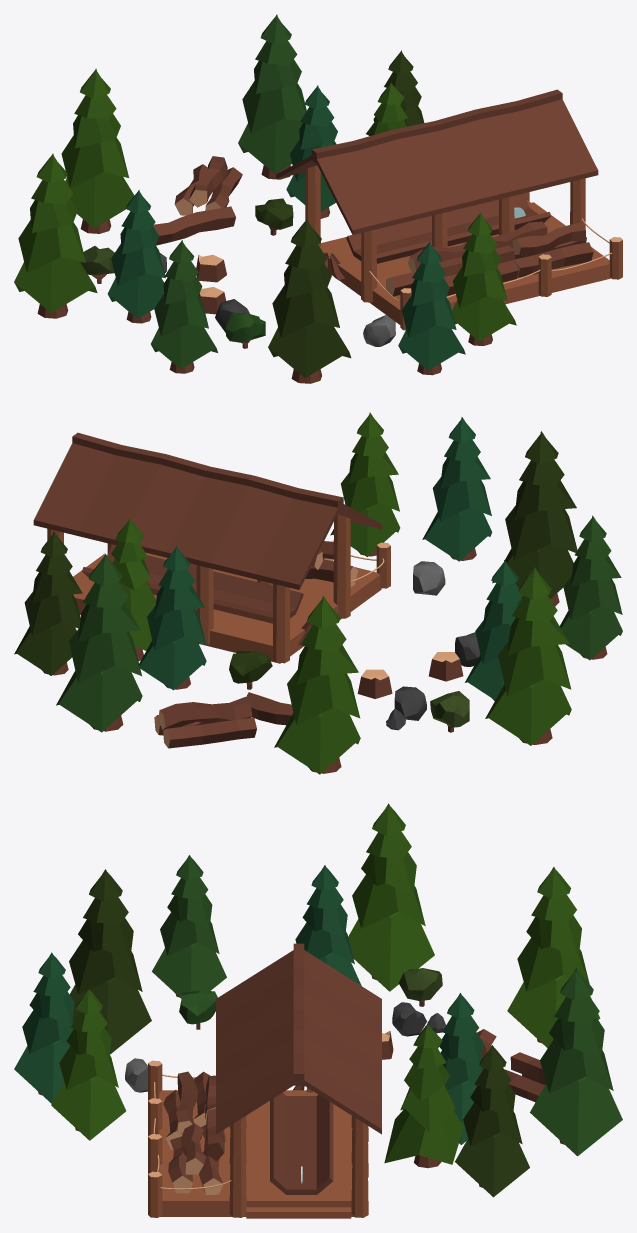
The model's file is SawmillLVl2.fbx.
3 renders of one model, top to bottom at view 1: azimuth 30°, elevation 25°; view 2: azimuth 150°, elevation 25°; view 3: azimuth 270°, elevation 25°, orthographic. The views are drawn at different scales.
Parts seen in each view (by area): view 1: крыша, ель.001, ель.002, ель.008, ель.005, бревна, фундамент, бревна.001, ель.003, ель.004, ель.007, ель.011 (+11 smaller); view 2: крыша, ель.008, ель.005, ель.001, ель.002, бревна.001, ель.003, ель.009, ель.004, ель.006, фундамент, ель.007 (+11 smaller); view 3: крыша, фундамент, ель.005, ель.001, ель.002, ель.008, ель.010, ель.006, ель.007, ель.004, поддон, бревна (+10 smaller).
Boxes of the visible parts, x1,y1,x2,y2 form: крыша: [276, 89, 598, 234]; ель.001: [14, 153, 97, 318]; ель.002: [268, 218, 351, 383]; ель.008: [61, 68, 134, 233]; ель.005: [238, 14, 306, 179]; бревна: [386, 221, 593, 296]; фундамент: [320, 200, 611, 324]; бревна.001: [153, 156, 242, 314]; ель.003: [398, 241, 465, 375]; ель.004: [151, 240, 217, 373]; ель.007: [452, 212, 516, 345]; ель.011: [107, 190, 165, 323]; крыша: [33, 432, 382, 589]; ель.008: [274, 596, 360, 774]; ель.005: [56, 553, 142, 732]; ель.001: [485, 567, 571, 745]; ель.002: [492, 431, 577, 606]; бревна.001: [154, 652, 463, 748]; ель.003: [422, 417, 492, 561]; ель.009: [139, 545, 206, 690]; ель.004: [559, 515, 622, 660]; ель.006: [14, 531, 82, 675]; фундамент: [73, 552, 381, 663]; ель.007: [330, 412, 400, 556]; крыша: [216, 943, 381, 1134]; фундамент: [159, 1090, 353, 1218]; ель.005: [530, 968, 622, 1156]; ель.001: [348, 803, 434, 991]; ель.002: [69, 869, 151, 1054]; ель.008: [507, 867, 600, 1048]; ель.010: [384, 1023, 463, 1168]; ель.006: [455, 1045, 529, 1197]; ель.007: [51, 988, 125, 1140]; ель.004: [152, 855, 226, 998]; поддон: [270, 1092, 333, 1194]; бревна: [163, 1071, 225, 1194].
Bounding box in the file's own units: 862 × 265 × 832.
